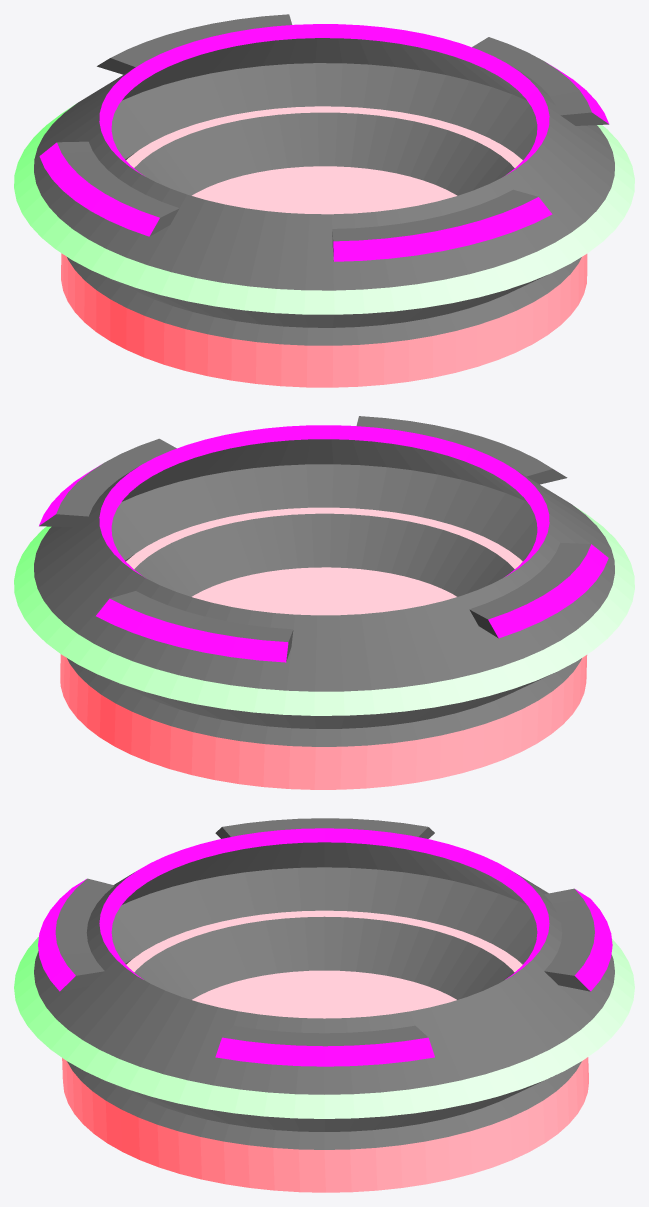
Rendered from MortarDefender fire 3.fbx.
The picture shows the model from 3 angles, top to bottom: view 1: azimuth 30°, elevation 25°; view 2: azimuth 150°, elevation 25°; view 3: azimuth 270°, elevation 25°; orthographic projection.
Visible parts, largest first — view 1: MortarDefender fire 3; view 2: MortarDefender fire 3; view 3: MortarDefender fire 3.
Boxes of the visible parts, <box> form: MortarDefender fire 3: <box>14,14,634,387</box>; MortarDefender fire 3: <box>14,416,634,789</box>; MortarDefender fire 3: <box>14,818,634,1192</box>.
Size of the model in its own units: 38.79 by 10.89 by 38.79.
